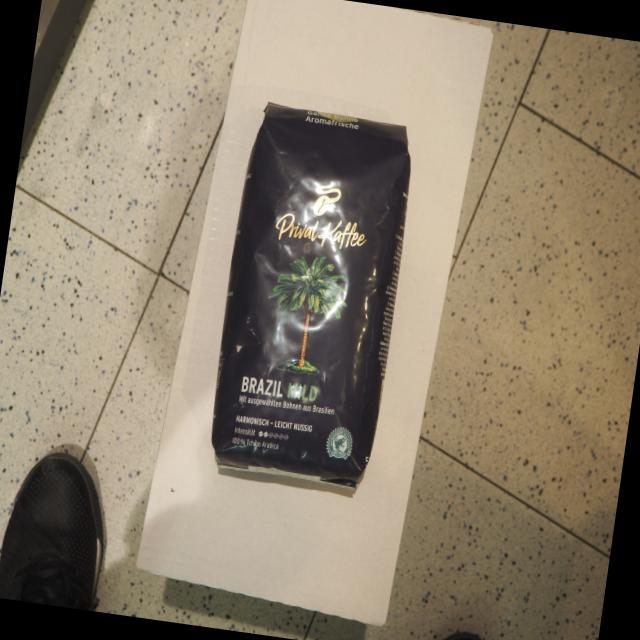BM Bohne: (199, 97, 422, 504)
